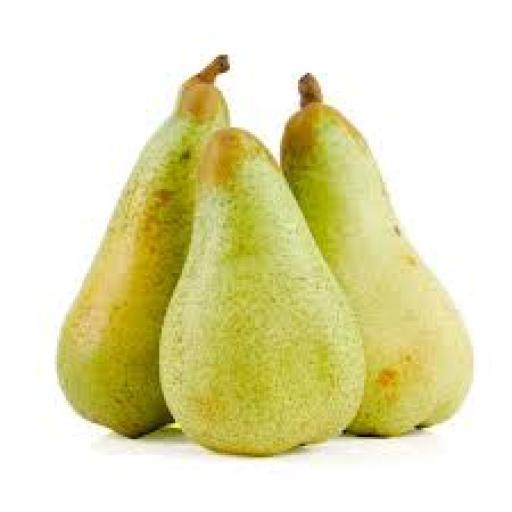Pear: (283, 76, 473, 434), (160, 130, 364, 455), (57, 57, 227, 436)
